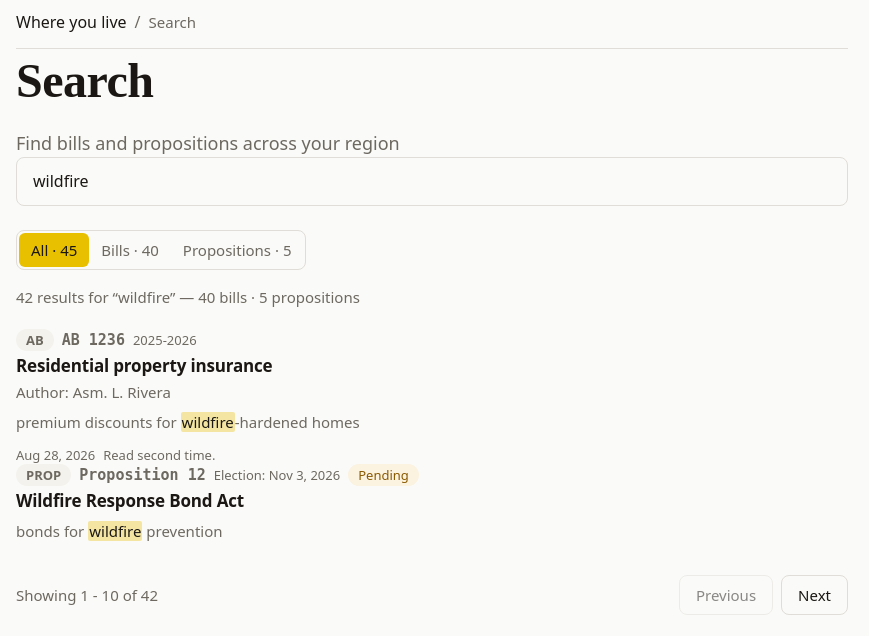
Test: SearchPage (#1154) › pagination › advances the page without touching the URL query
Click the button "Next" at {"x": 815, "y": 595}, box [781, 575, 848, 615]
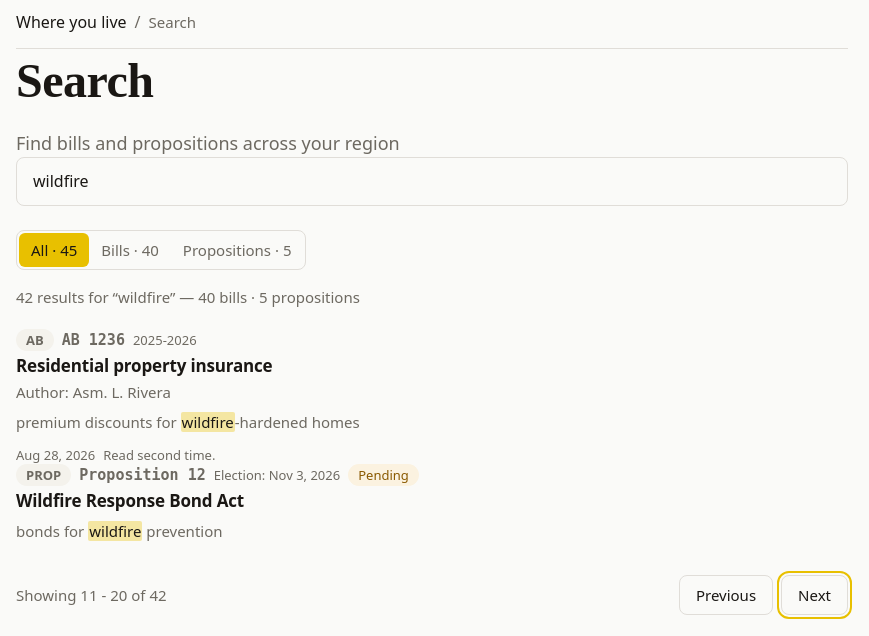
Expected: the text "Showing 11 - 20 of 42" is shown, [16, 584, 166, 606]
